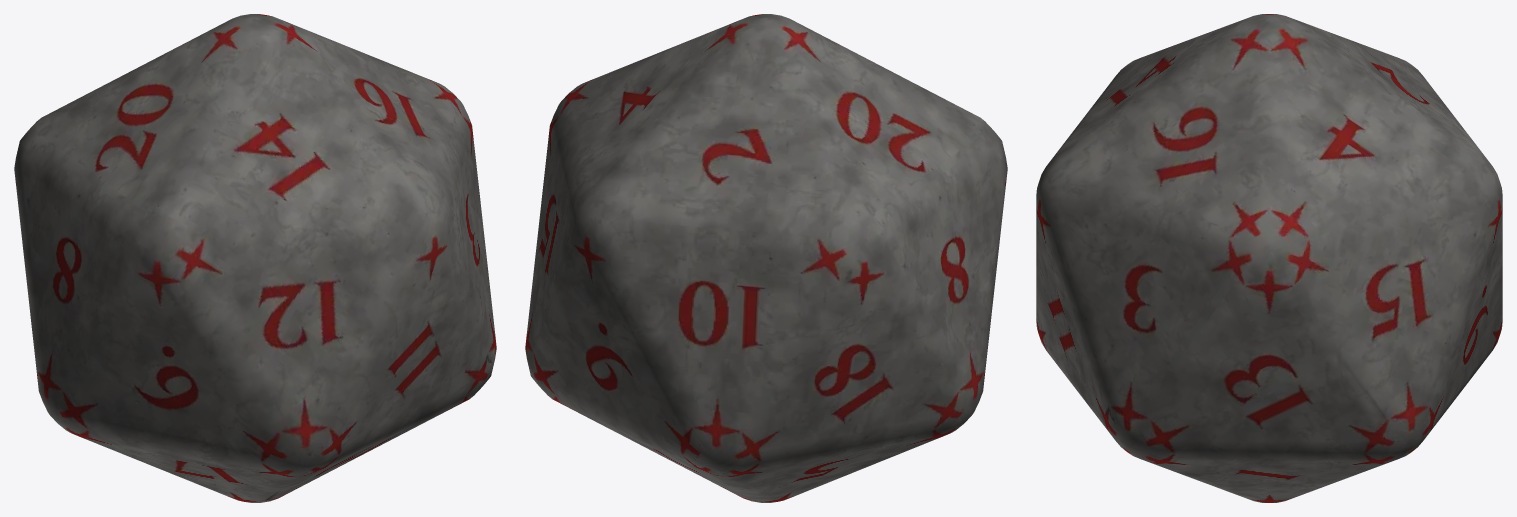
Rendered from dunmer-d20.glb.
3 renders of one model, left to right at view 1: azimuth 30°, elevation 25°; view 2: azimuth 150°, elevation 25°; view 3: azimuth 270°, elevation 25°, orthographic.
Visible parts, largest first — view 1: dunmer_d20; view 2: dunmer_d20; view 3: dunmer_d20.
Part boxes in pixels (box(x1,y1,x2,y2)): dunmer_d20: box(14, 14, 496, 502); dunmer_d20: box(525, 14, 1007, 502); dunmer_d20: box(1036, 14, 1502, 502).
Size of the model in its own units: 1.74 by 1.9 by 1.67.
1 material, 1 textured.
